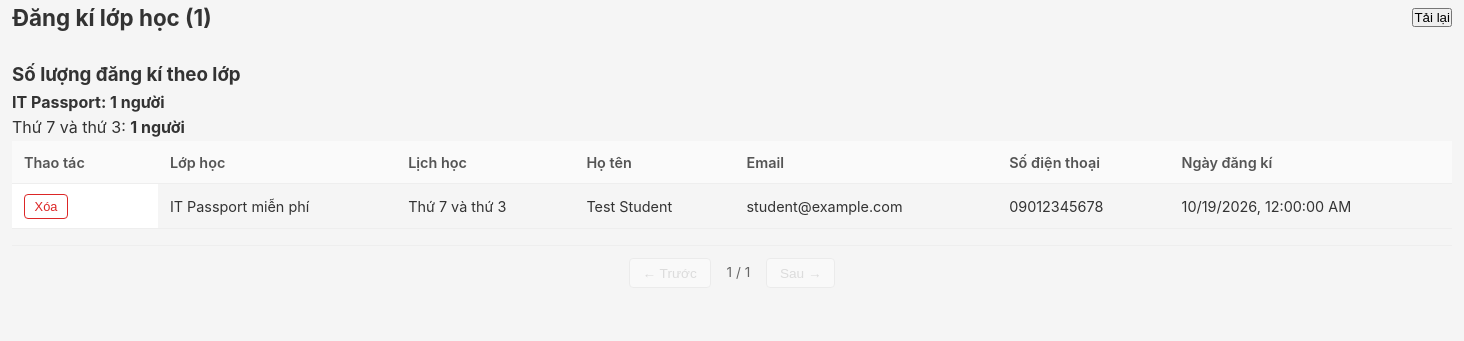
it: preserves the registration if deletion fails
Click the button "Xóa".
click(46, 206)  # box [24, 194, 68, 219]
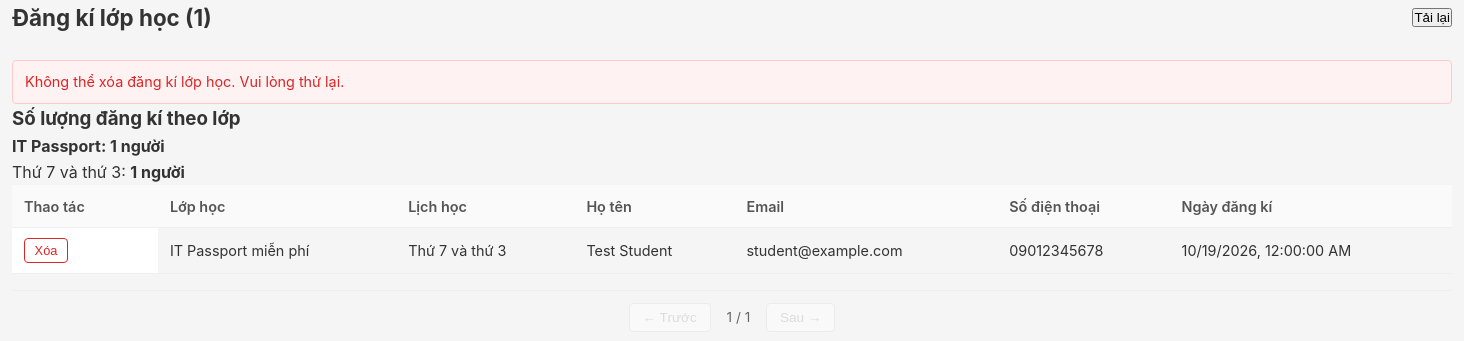
expect the text "Test Student" is shown: met, box [574, 228, 734, 273]
expect the message "Không thể xóa đăng kí lớp học. Vui lòng thử lại." is shown: met, box [12, 60, 1452, 104]
